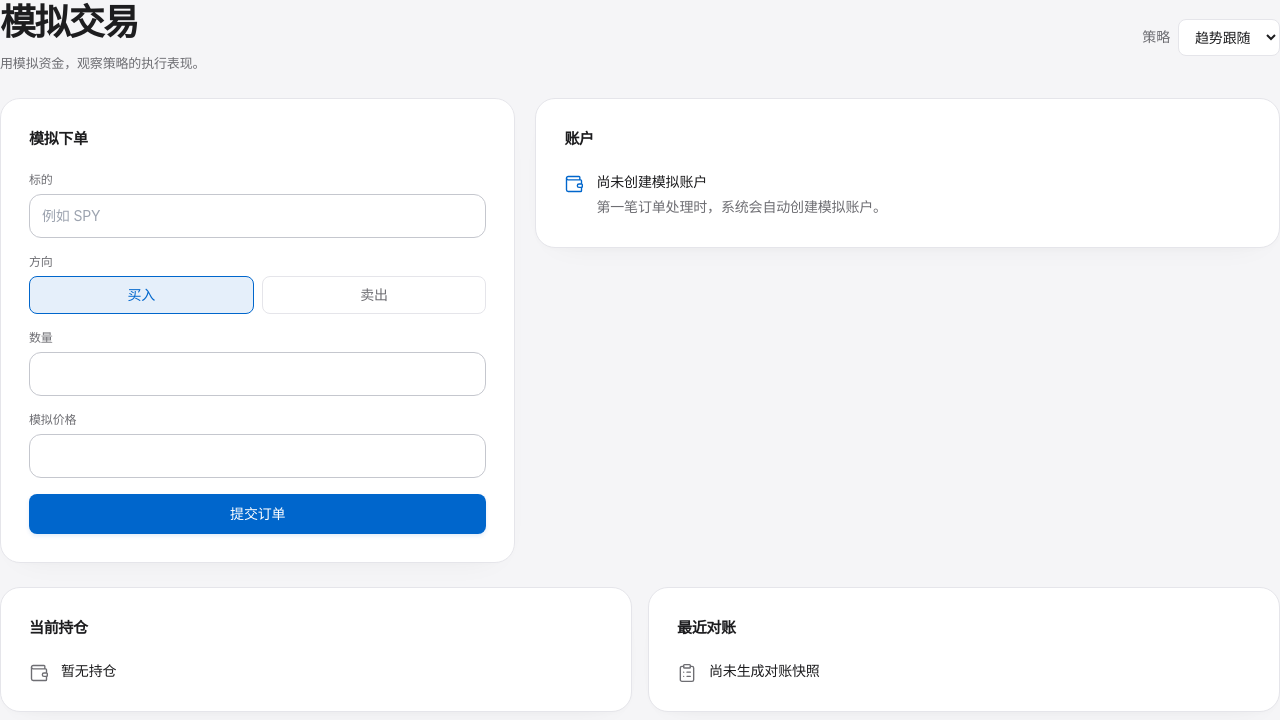
PaperDesk › submits a real paper order for the selected strategy
Type "SPY" into the field labelled "标的" at (258, 216), box [29,194,486,238]
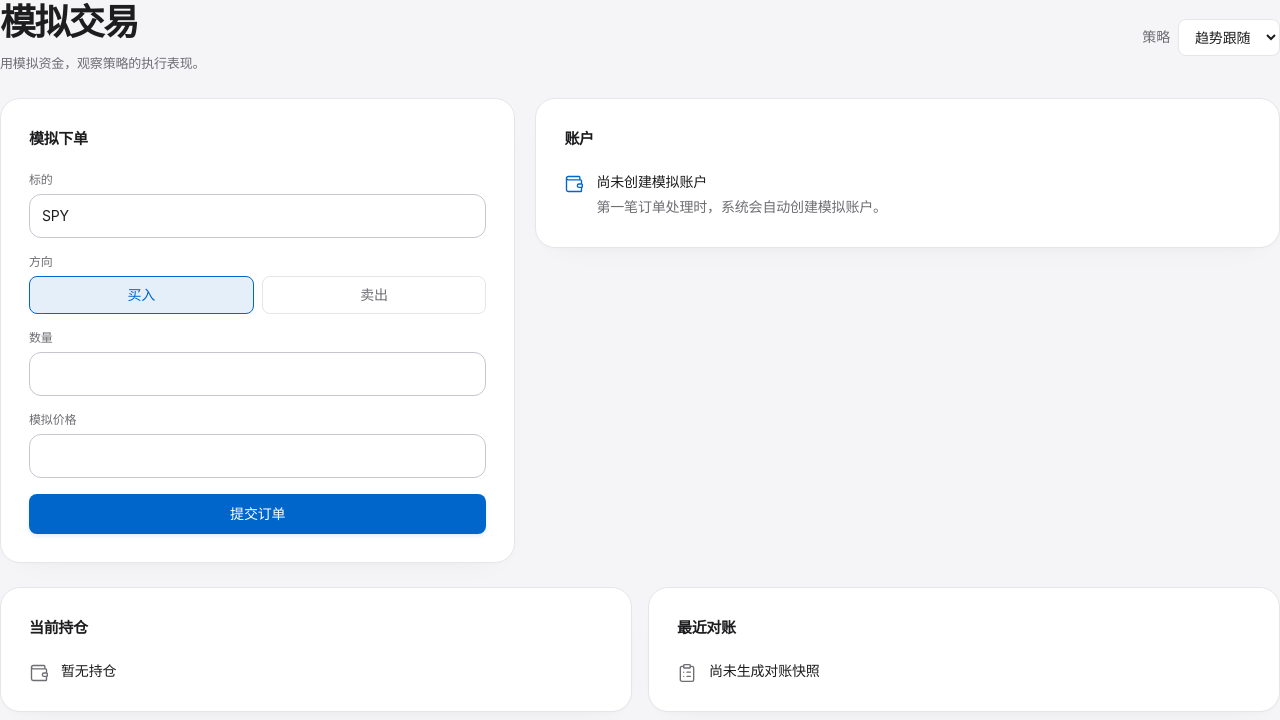
Type "2" into the number field labelled "数量" at (258, 374), box [29,352,486,396]
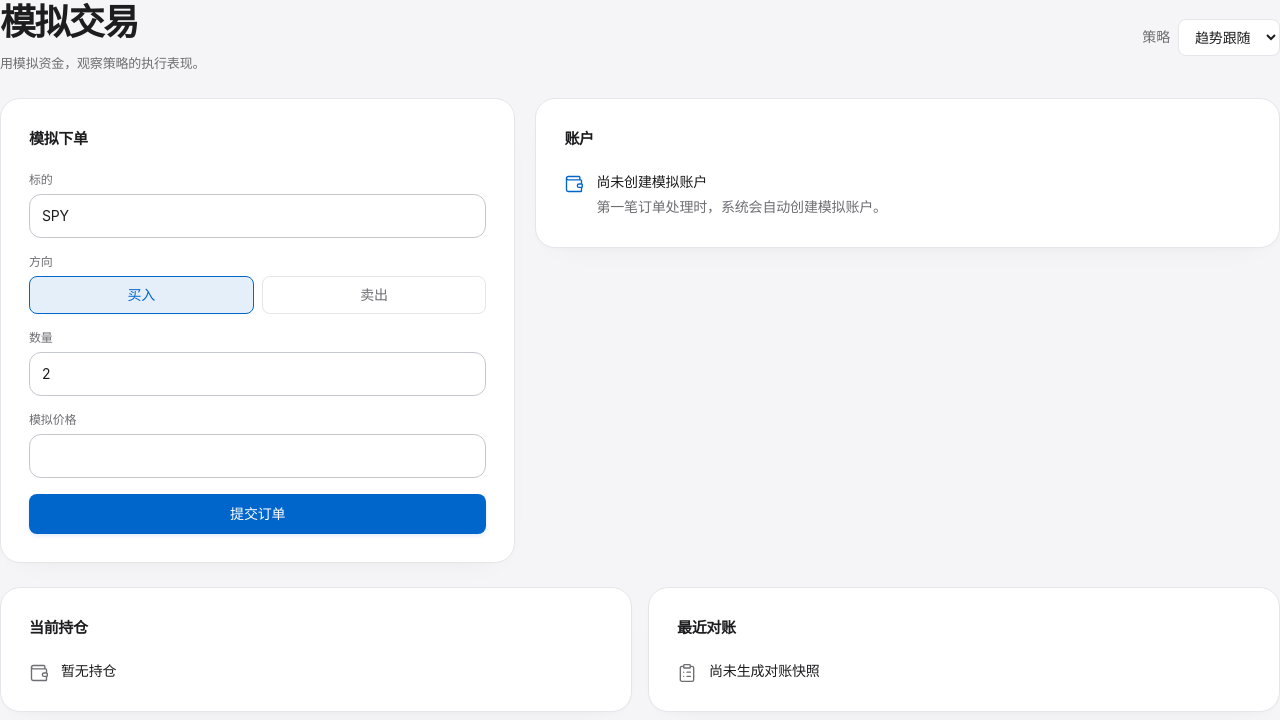
Type "100" into the number field labelled "模拟价格" at (258, 456), box [29,434,486,478]
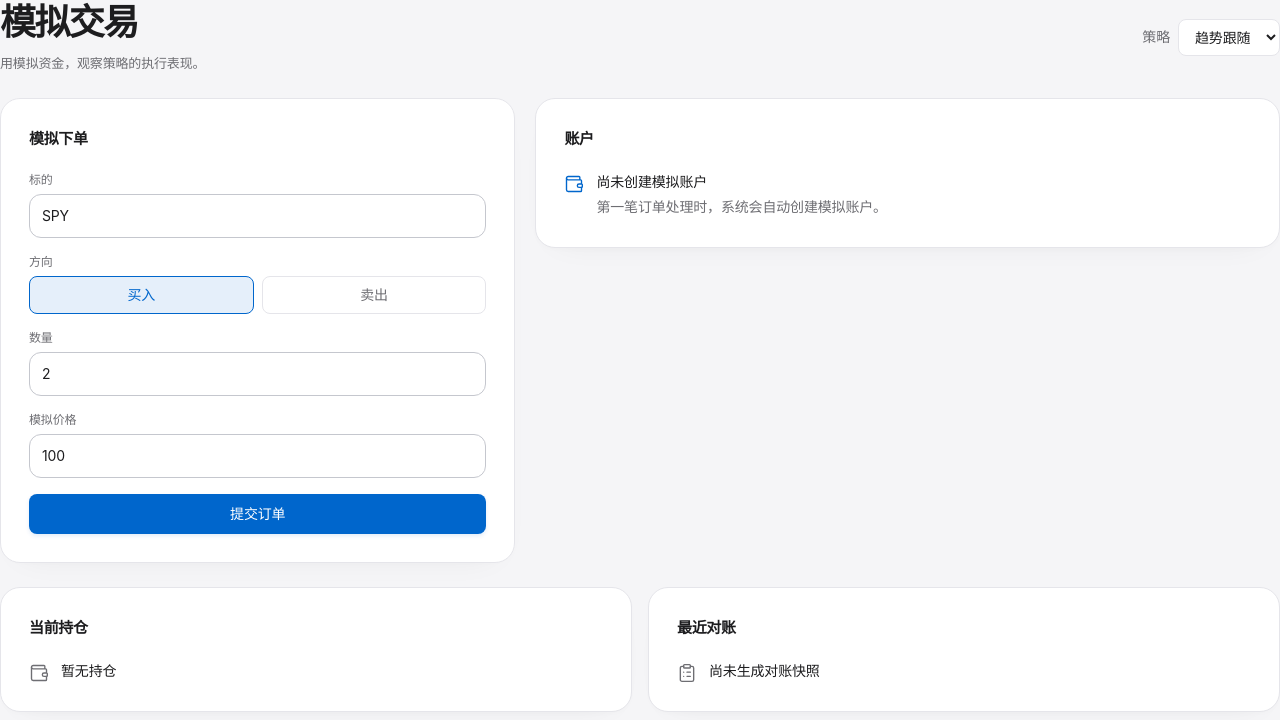
Click the button "提交订单" at (258, 514), box [29,494,486,534]
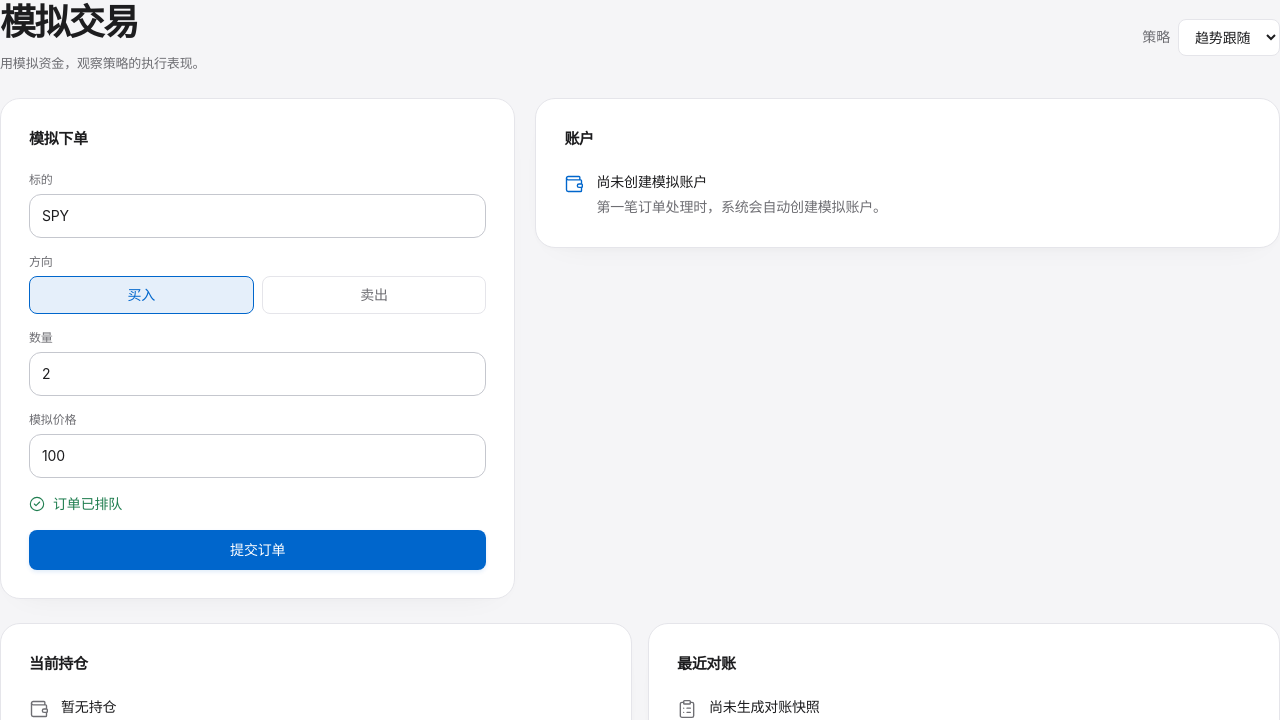
Result: the text "订单已排队" is shown at [29,495,122,512]
